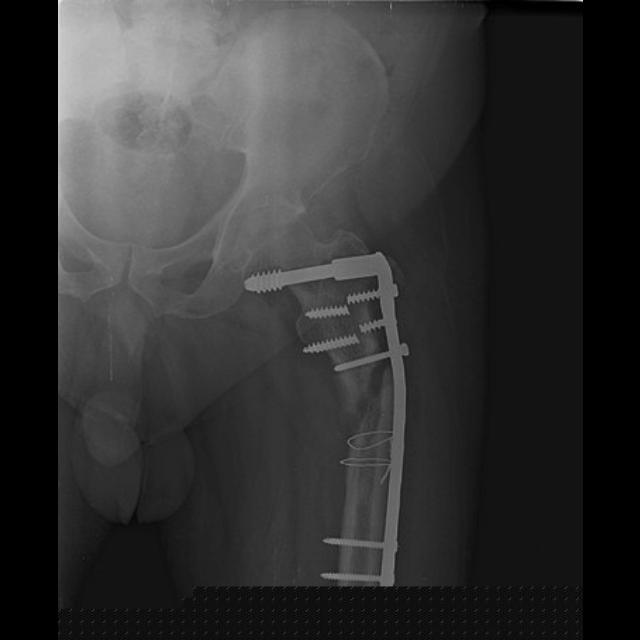Fracture: (331, 336, 395, 465)
